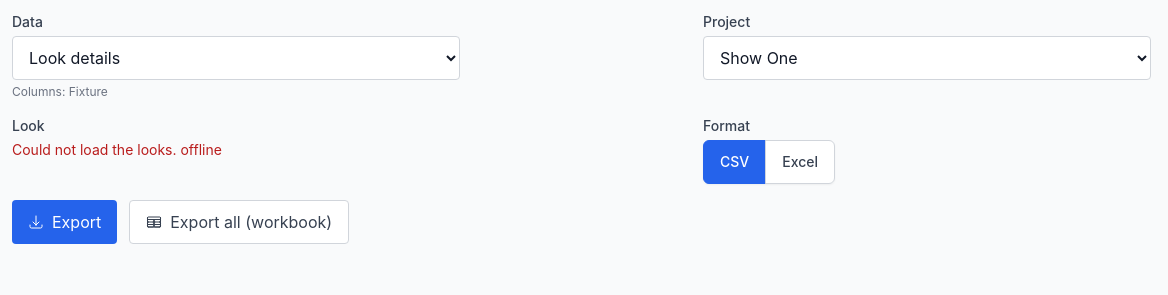
Test: DataExportPanel › shows an error when the scope list cannot be loaded and keeps a deep-linked scope
Expected: the message reads "Could not load the looks. offline", [12, 141, 222, 158]
Click the button "Export" at x=65, y=222, box [12, 200, 117, 244]
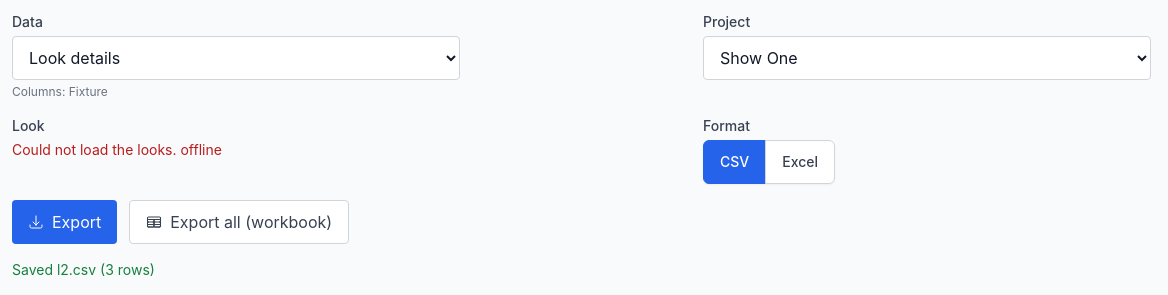
Now the text with test id "data-export-result" shows "Saved l2.csv", box [12, 261, 155, 278]
